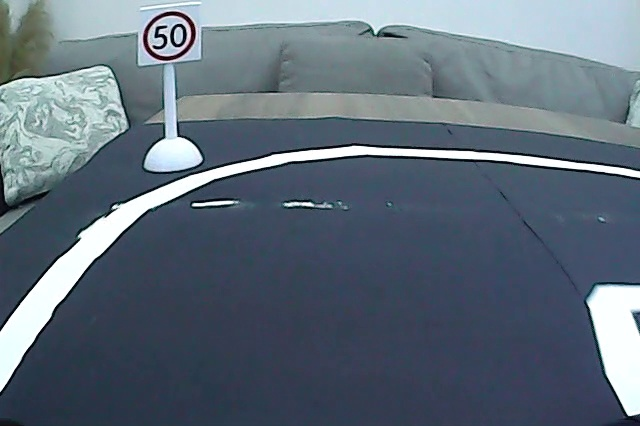speed limit 50: (140, 8, 198, 63)
